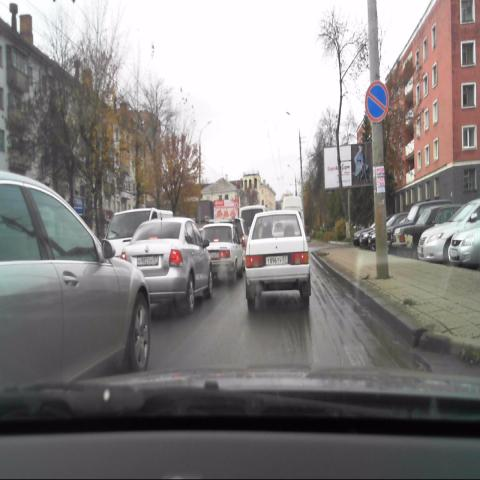3_28: (364, 80, 390, 125)
